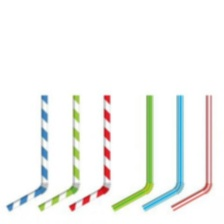drinking_straw: (1, 93, 54, 215), (65, 95, 117, 215), (106, 94, 158, 213), (35, 94, 85, 214), (139, 94, 187, 216), (168, 95, 216, 213)
